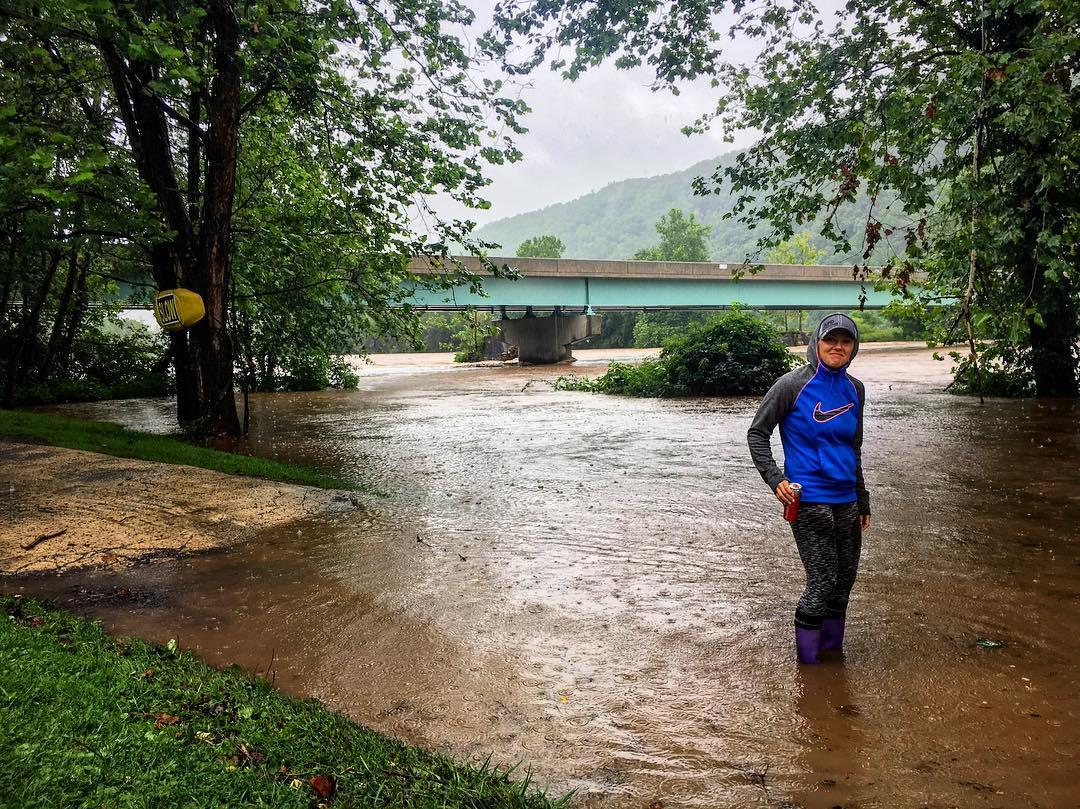victim: (744, 315, 873, 679)
